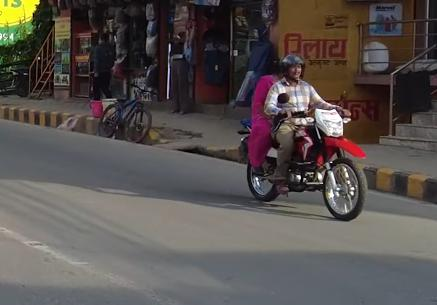bike: (239, 88, 371, 225)
